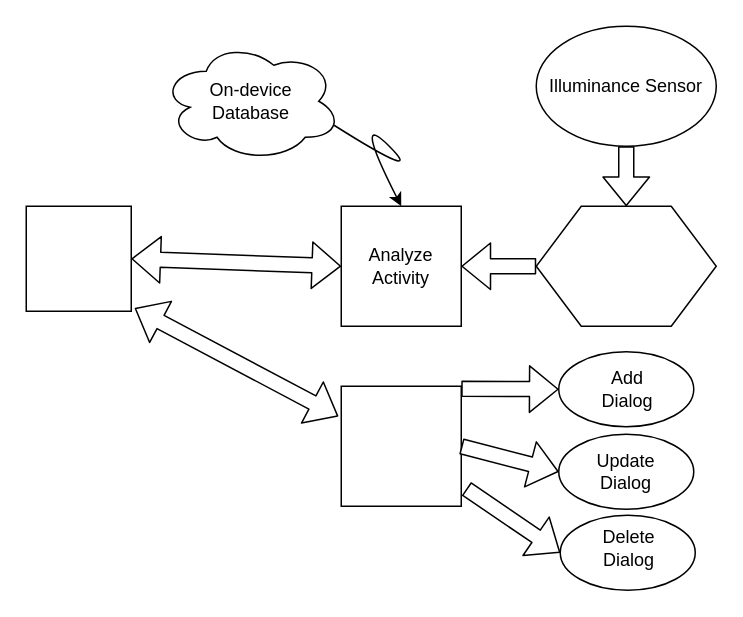
Image size: 743x617. Some labels were removed from this diagram. The box of each missing label's shape, as (x1, y1, x2, y2) in pixels:
Main Activity: (25, 205, 131, 311)
Sensor Service: (535, 205, 716, 326)
Settings Activity: (340, 385, 461, 506)
